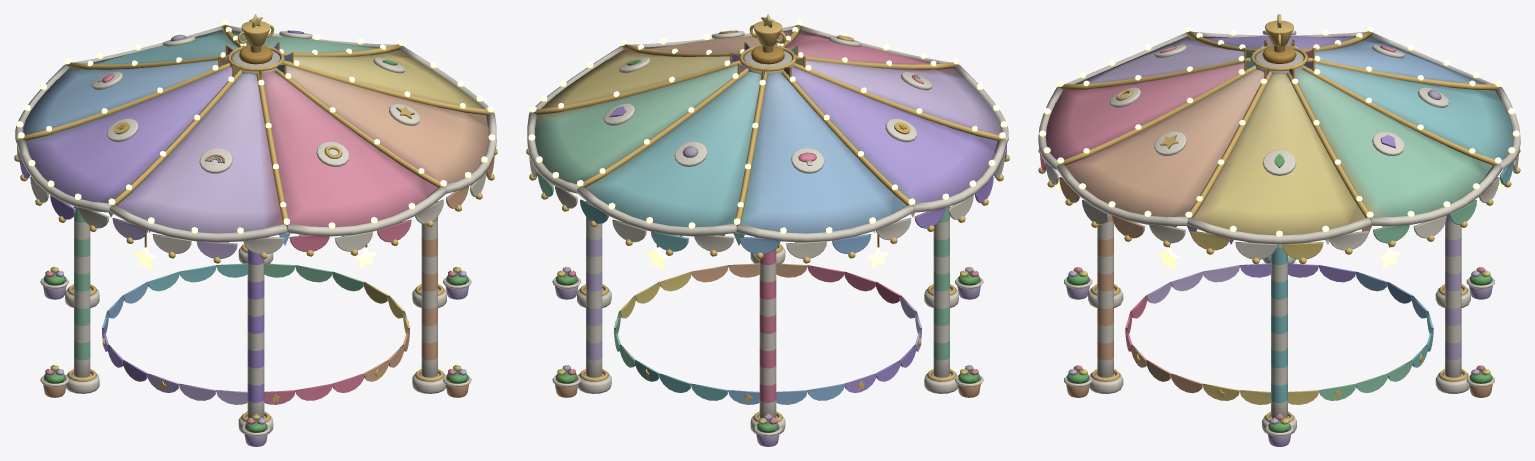
File: comp-stage.glb
The picture shows the model from 3 angles, left to right: view 1: azimuth 30°, elevation 25°; view 2: azimuth 150°, elevation 25°; view 3: azimuth 270°, elevation 25°; orthographic projection.
Parts seen in each view (by area): view 1: COMP_STAGE__canopy; view 2: COMP_STAGE__canopy; view 3: COMP_STAGE__canopy.
Boxes of the visible parts, x1=… form: COMP_STAGE__canopy: x1=14, y1=14, x2=497, y2=446; COMP_STAGE__canopy: x1=526, y1=14, x2=1009, y2=446; COMP_STAGE__canopy: x1=1038, y1=14, x2=1520, y2=446.
Size of the model in its own units: 2 by 1.48 by 1.95.
